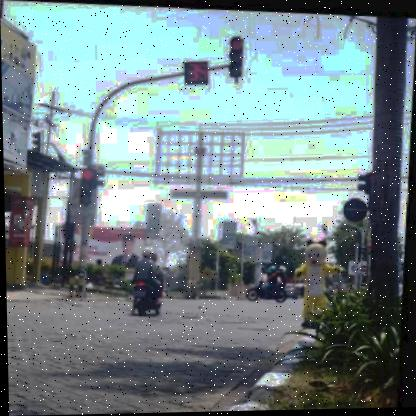Traffic Light -Red-: (229, 34, 245, 77), (81, 166, 98, 205)
